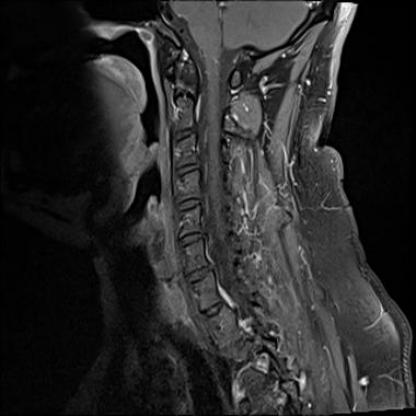Disc Bulgerotation: (186, 261, 213, 286), (175, 158, 202, 179)
